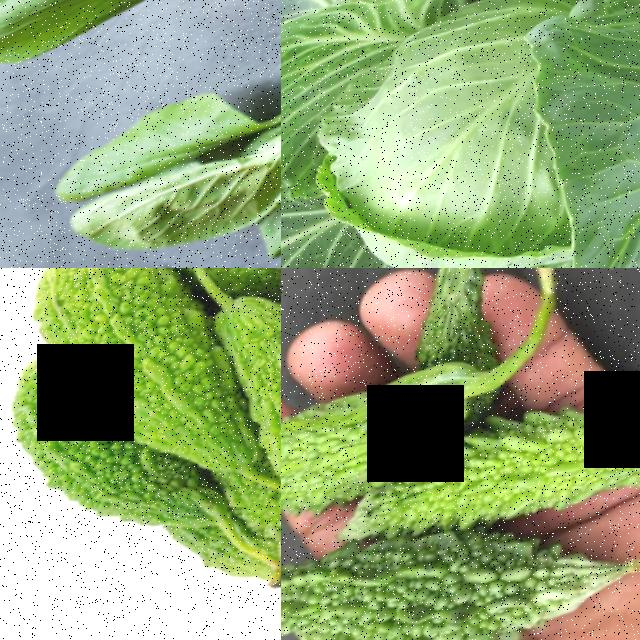bitter gourd: (46, 268, 230, 486), (281, 354, 482, 533), (296, 510, 562, 640), (422, 395, 640, 547), (0, 359, 100, 530), (224, 294, 281, 540)
bok choy: (46, 0, 281, 268), (0, 0, 281, 77)
cabbage: (281, 0, 640, 268)
